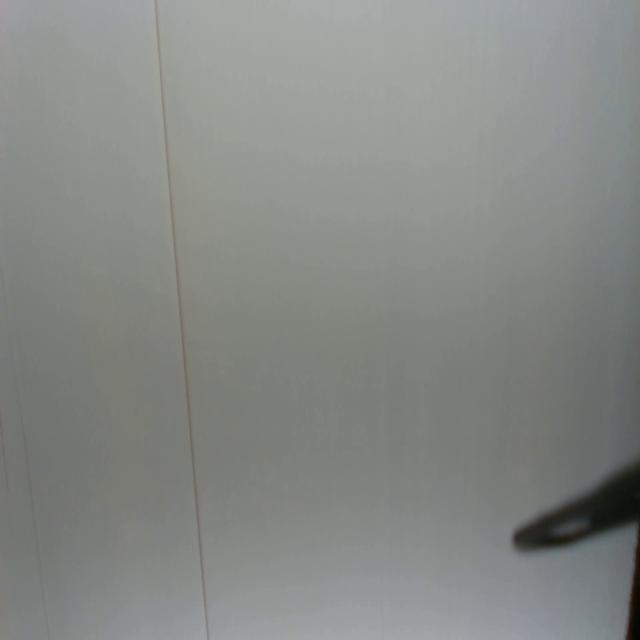crease: (154, 0, 210, 639), (14, 372, 51, 640), (0, 422, 9, 488)
